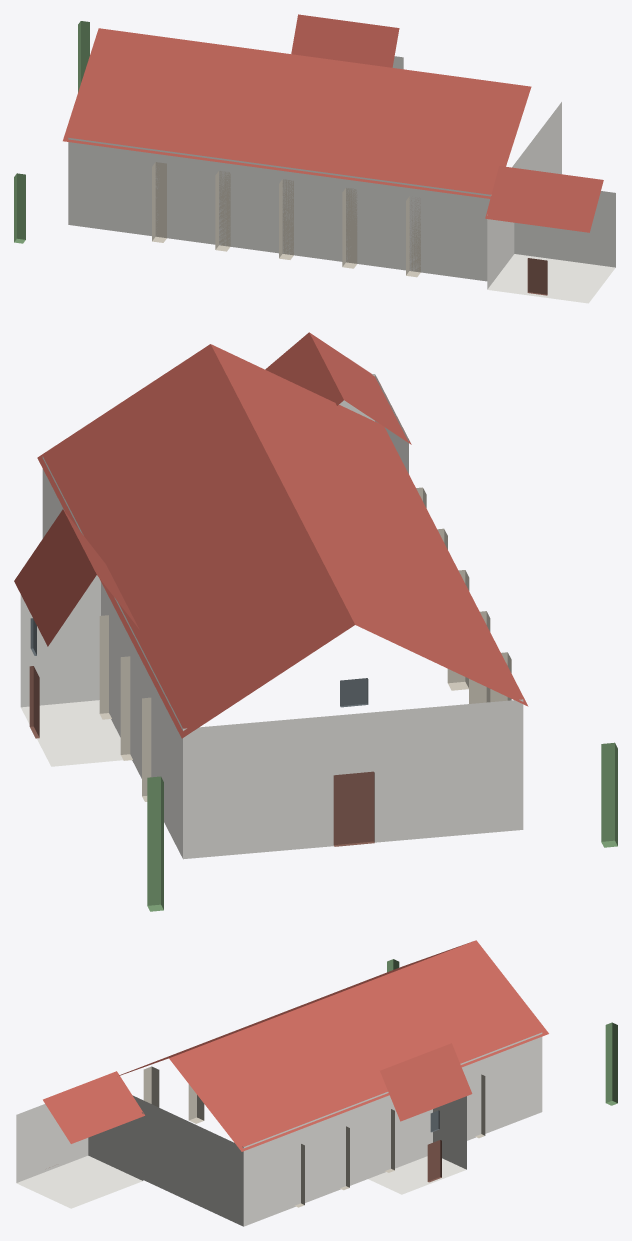
File: seroe_church.glb
The picture shows the model from 3 angles, top to bottom: view 1: azimuth 30°, elevation 25°; view 2: azimuth 150°, elevation 25°; view 3: azimuth 270°, elevation 25°; orthographic projection. The views are drawn at different scales.
Visible parts, largest first — view 1: seroe_church_lod0; view 2: seroe_church_lod0; view 3: seroe_church_lod0.
Boxes of the visible parts, left/top/right/bottom form: seroe_church_lod0: left=14, top=14, right=615, bottom=303; seroe_church_lod0: left=14, top=332, right=617, bottom=911; seroe_church_lod0: left=16, top=940, right=617, bottom=1226.
Size of what is drawn, in the model's own units: 31.66 by 9.6 by 38.46.
